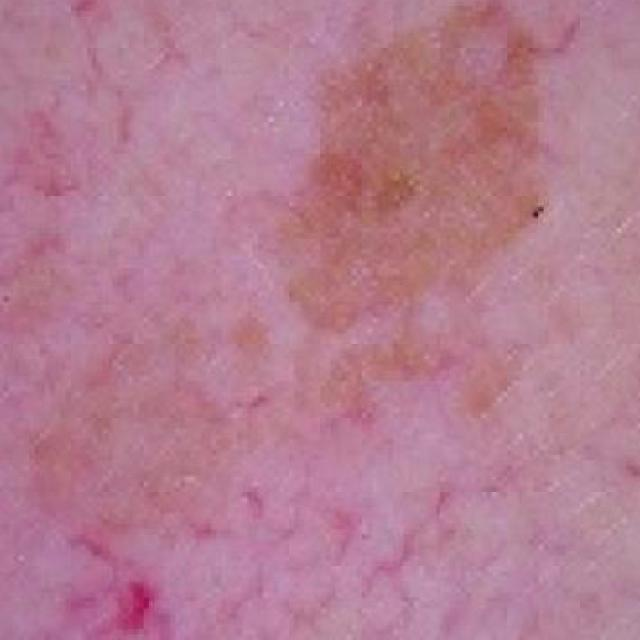BKL: (171, 0, 640, 375)
